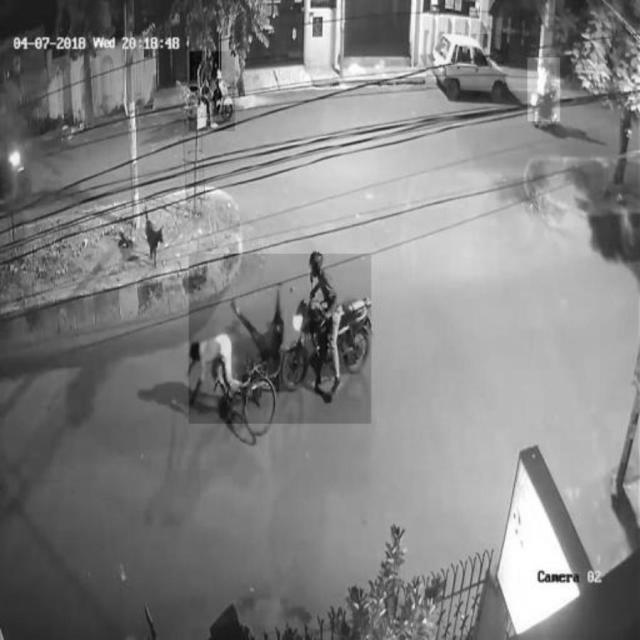accident: (189, 254, 371, 424)
vehicle: (426, 35, 508, 99), (189, 51, 235, 131), (528, 58, 560, 122)
